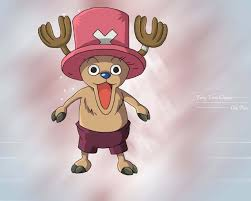chopper: (36, 7, 169, 123)
